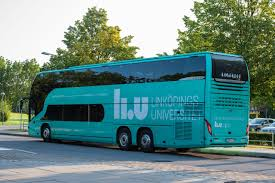bus: (19, 51, 251, 152)
